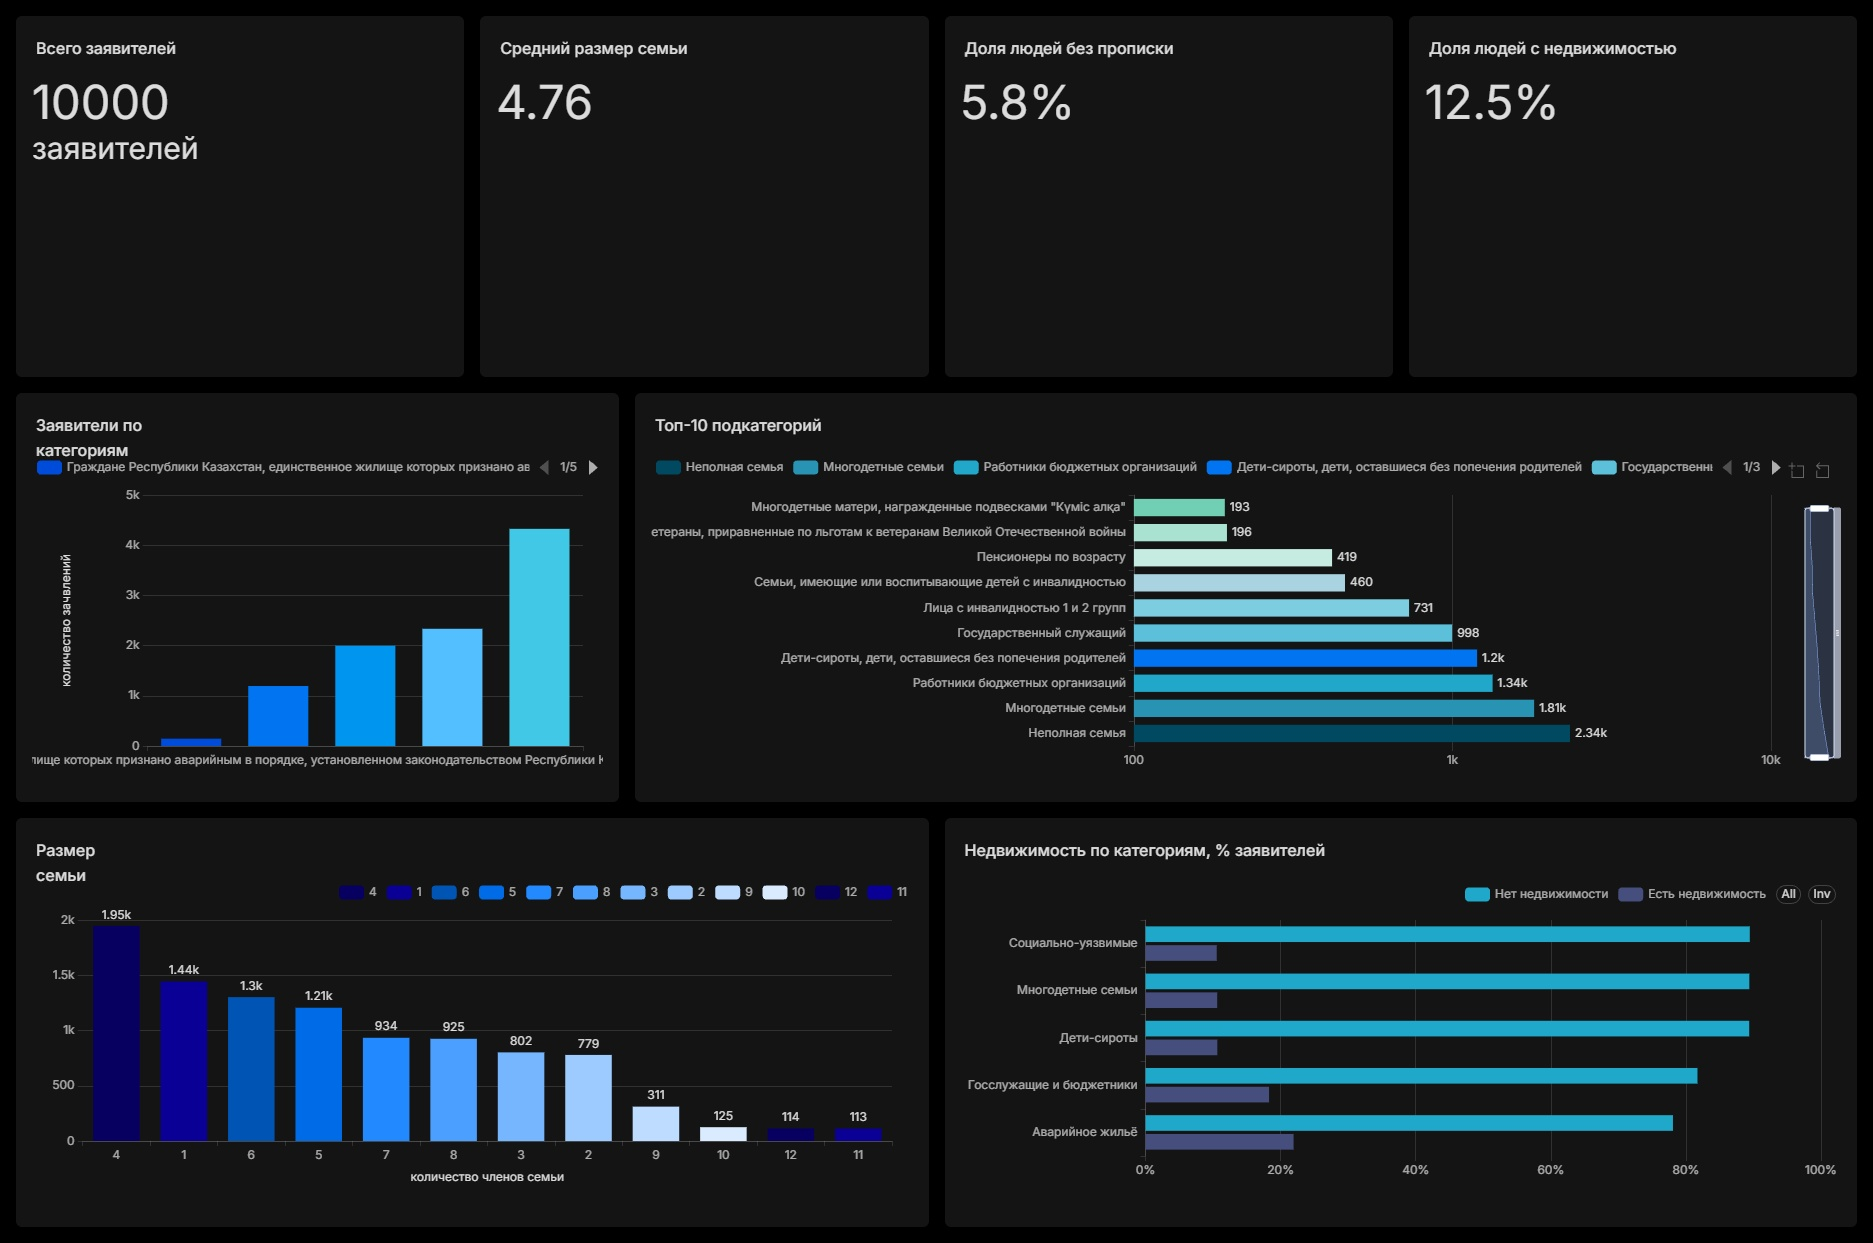

This screenshot's page, from the dashboard's own definition file:
{"tool":"powerbi","page":{"name":"Очередь","canvas":[1920,1080],"ordinal":4},"visuals":[{"type":"cardVisual","title":"Всего заявителей","fields":{"Data":["kezekte_synthetic.Всего заявителей"]},"box":[166.7,0,240,138.3],"z":0},{"type":"cardVisual","title":"Средний размер семьи","fields":{"Data":["kezekte_synthetic.Средний размер семьи"]},"box":[625,0,300,138.3],"z":1000},{"type":"cardVisual","title":"Без прописки","fields":{"Data":["kezekte_synthetic.Без прописки %"]},"box":[1123.3,0,185,138.3],"z":2000},{"type":"cardVisual","title":"С недвижимостью","fields":{"Data":["kezekte_synthetic.С недвижимостью %"]},"box":[1517.3,0,258.2,138.6],"z":3000},{"type":"clusteredBarChart","title":"Топ-10 подкатегорий","fields":{"Category":["kezekte_synthetic.FLSUBCATEGORY"],"Y":["kezekte_synthetic.Всего заявителей"]},"box":[878.3,138.3,813.3,440],"z":4000},{"type":"clusteredColumnChart","title":"Размер семьи","fields":{"Category":["kezekte_synthetic.CNT_MEM"],"Y":["kezekte_synthetic.Всего заявителей"]},"box":[0,578.3,775,431.7],"z":5000},{"type":"clusteredBarChart","title":"Заявители по категориям","fields":{"Category":["kezekte_synthetic.Категория (кратко)"],"Y":["kezekte_synthetic.Всего заявителей"]},"box":[0,138.3,813.3,440],"z":6000},{"type":"barChart","title":"Недвижимость по категориям","fields":{"Category":["kezekte_synthetic.Категория (кратко)"],"Series":["kezekte_synthetic.REAL_ESTATE_STATUS"],"Y":["kezekte_synthetic.Всего заявителей"]},"box":[878,578,813,432],"z":7000},{"type":"slicer","fields":{"Values":["kezekte_synthetic.Категория (кратко)"]},"box":[1691.7,138.3,219,440],"z":8000}]}

Visuals, with their boxes on the page's 1920x1080 design canvas (x1, y1, x2, y2). These are canvas units, not pixel positions in the 1873x1243 screenshot, which may show the page scaled, cropped or inside an application window:
"Всего заявителей" cardVisual: (x1=167, y1=0, x2=407, y2=138)
"Средний размер семьи" cardVisual: (x1=625, y1=0, x2=925, y2=138)
"Без прописки" cardVisual: (x1=1123, y1=0, x2=1308, y2=138)
"С недвижимостью" cardVisual: (x1=1517, y1=0, x2=1776, y2=139)
"Топ-10 подкатегорий" clusteredBarChart: (x1=878, y1=138, x2=1692, y2=578)
"Размер семьи" clusteredColumnChart: (x1=0, y1=578, x2=775, y2=1010)
"Заявители по категориям" clusteredBarChart: (x1=0, y1=138, x2=813, y2=578)
"Недвижимость по категориям" barChart: (x1=878, y1=578, x2=1691, y2=1010)
slicer - kezekte_synthetic.Категория (кратко): (x1=1692, y1=138, x2=1911, y2=578)
